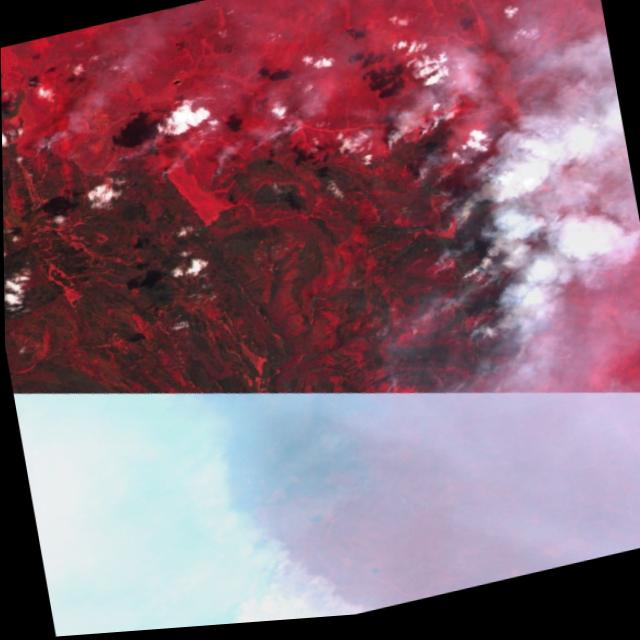fire: (26, 16, 622, 639)
